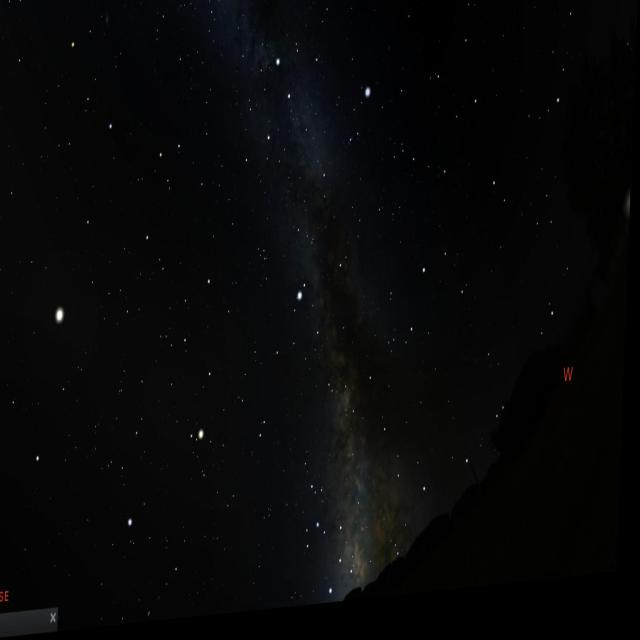aquila: (268, 282, 350, 416)
cygnus: (262, 40, 335, 224)
lyra: (337, 87, 378, 167)
sagittarius: (313, 508, 362, 612)
